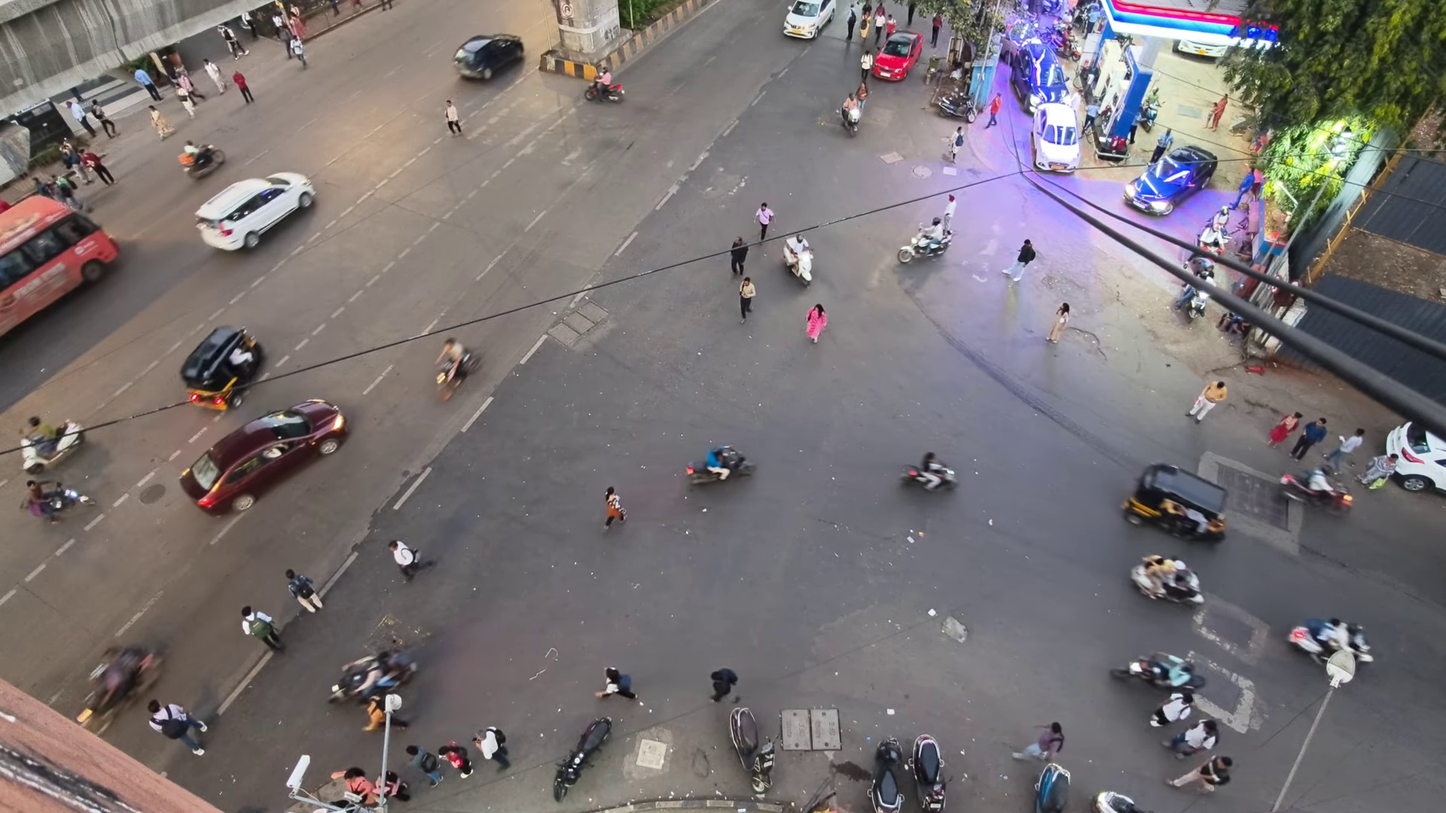driving: (0, 195, 118, 334)
walking: (147, 700, 206, 755), (1166, 757, 1232, 791), (1162, 720, 1217, 759), (1012, 722, 1063, 761), (242, 606, 282, 650), (331, 768, 377, 805), (1325, 428, 1365, 470), (405, 744, 443, 786), (285, 569, 322, 612), (473, 726, 509, 770), (1188, 381, 1226, 422), (59, 139, 93, 184), (1290, 417, 1326, 459), (1150, 691, 1193, 726), (1002, 239, 1036, 282), (1359, 454, 1398, 489), (595, 666, 636, 699), (438, 741, 473, 778), (1268, 411, 1303, 448), (389, 540, 418, 580), (81, 149, 114, 184), (217, 24, 248, 59), (68, 99, 96, 137), (90, 99, 117, 137), (54, 177, 84, 211), (709, 668, 738, 702), (377, 772, 410, 801), (605, 486, 626, 529), (134, 68, 161, 101), (148, 105, 174, 139), (1230, 169, 1252, 209), (1047, 303, 1069, 343), (363, 696, 388, 731), (806, 304, 828, 343), (203, 59, 226, 93), (755, 202, 774, 242), (178, 72, 205, 100), (1150, 129, 1172, 163), (740, 276, 755, 323), (232, 70, 253, 102), (1208, 96, 1228, 129), (731, 236, 748, 274), (444, 100, 462, 135), (985, 93, 1002, 128), (1081, 100, 1099, 133), (272, 11, 290, 44), (941, 193, 956, 232), (289, 37, 307, 69), (949, 126, 964, 163), (874, 3, 887, 44), (239, 11, 258, 39), (177, 87, 194, 117), (860, 47, 873, 81), (854, 81, 868, 110), (931, 14, 943, 47), (846, 6, 857, 41), (884, 15, 896, 37), (907, 0, 917, 25)
